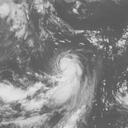cyclone: (47, 53, 96, 114)
